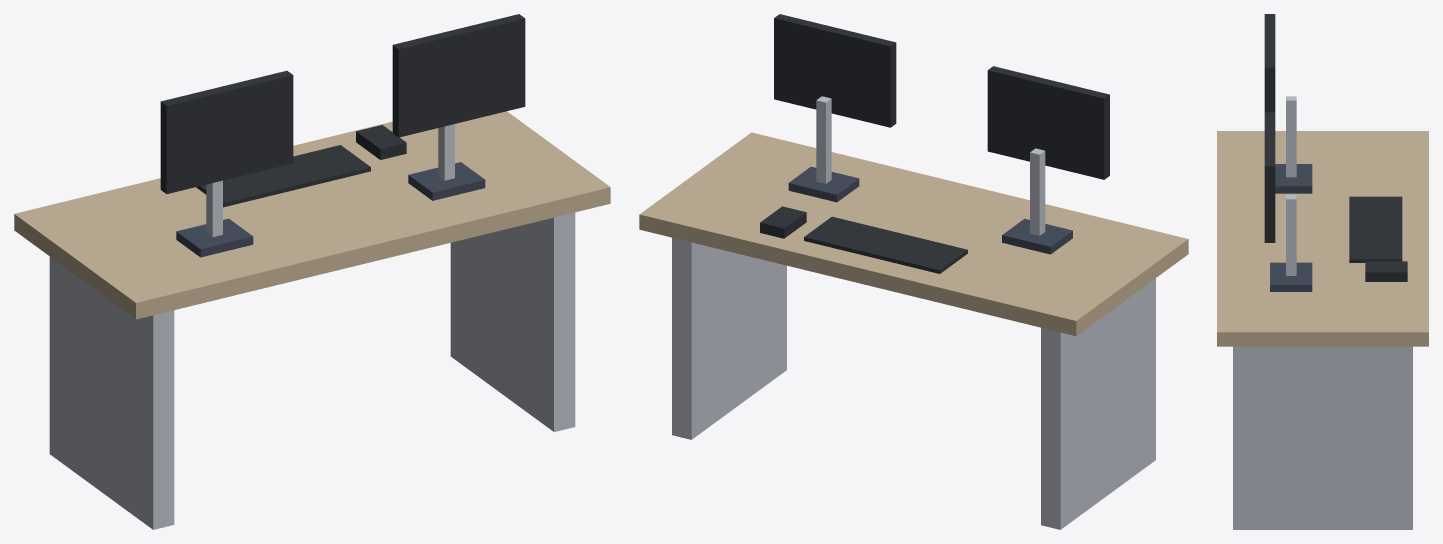
The model's file is station_processing_3.glb.
3 views of the same model, side by side, from view 1: azimuth 30°, elevation 25°; view 2: azimuth 150°, elevation 25°; view 3: azimuth 270°, elevation 25° (orthographic). The views are drawn at different scales.
Visible parts, largest first — view 1: tisch_platte, tisch_bein, tisch_bein.001, monitor_rahmen_0, monitor_rahmen_1, tastatur, monitor_fuss_1, monitor_fuss_0, maus, monitor_hals_0, monitor_hals_1; view 2: tisch_platte, tisch_bein, tisch_bein.001, monitor_rahmen_1, monitor_rahmen_0, tastatur, monitor_fuss_1, monitor_fuss_0, monitor_hals_1, monitor_hals_0, maus; view 3: tisch_platte, tisch_bein.001, tastatur, monitor_rahmen_1, monitor_rahmen_0, monitor_fuss_1, monitor_fuss_0, maus, monitor_hals_0, monitor_hals_1.
Part boxes in pixels (x1,y1,x2,y2): tisch_platte: (14, 111, 610, 319); tisch_bein: (49, 256, 174, 529); tisch_bein.001: (450, 212, 575, 431); monitor_rahmen_0: (160, 70, 293, 193); monitor_rahmen_1: (392, 14, 525, 137); tastatur: (196, 145, 370, 207); monitor_fuss_1: (408, 162, 485, 200); monitor_fuss_0: (176, 218, 253, 257); maus: (356, 125, 406, 159); monitor_hals_0: (206, 180, 222, 237); monitor_hals_1: (438, 124, 454, 180); tisch_platte: (639, 132, 1188, 336); tisch_bein: (1041, 278, 1155, 529); tisch_bein.001: (672, 237, 786, 439); monitor_rahmen_1: (774, 14, 896, 127); monitor_rahmen_0: (987, 66, 1109, 179); tastatur: (804, 216, 967, 273); monitor_fuss_1: (788, 166, 859, 202); monitor_fuss_0: (1002, 218, 1072, 254); monitor_hals_1: (816, 96, 831, 183); monitor_hals_0: (1030, 148, 1045, 235); maus: (760, 206, 806, 238); tisch_platte: (1217, 131, 1428, 346); tisch_bein.001: (1233, 346, 1412, 529); tastatur: (1349, 196, 1402, 262); monitor_rahmen_1: (1264, 112, 1275, 242); monitor_rahmen_0: (1264, 14, 1275, 112); monitor_fuss_1: (1270, 262, 1312, 291); monitor_fuss_0: (1275, 164, 1312, 193); maus: (1365, 261, 1407, 281); monitor_hals_0: (1286, 96, 1296, 177); monitor_hals_1: (1286, 194, 1296, 275).
Size of the model in its own units: 0.9 by 0.73 by 0.4.
